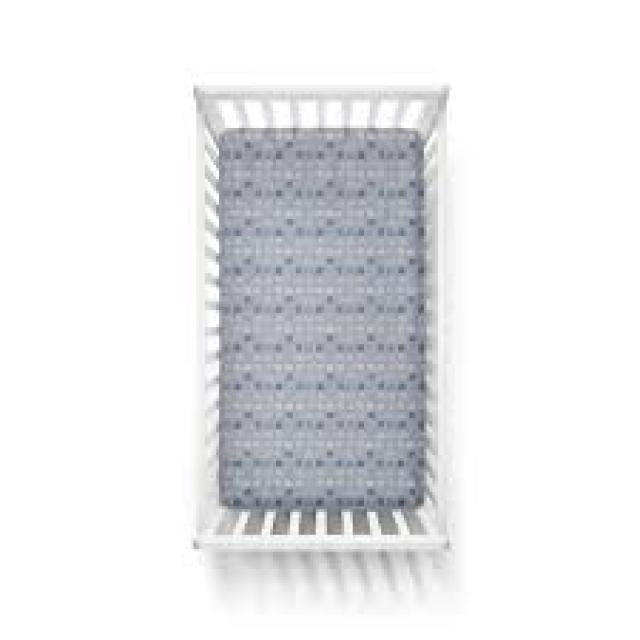crib: (188, 80, 455, 554)
